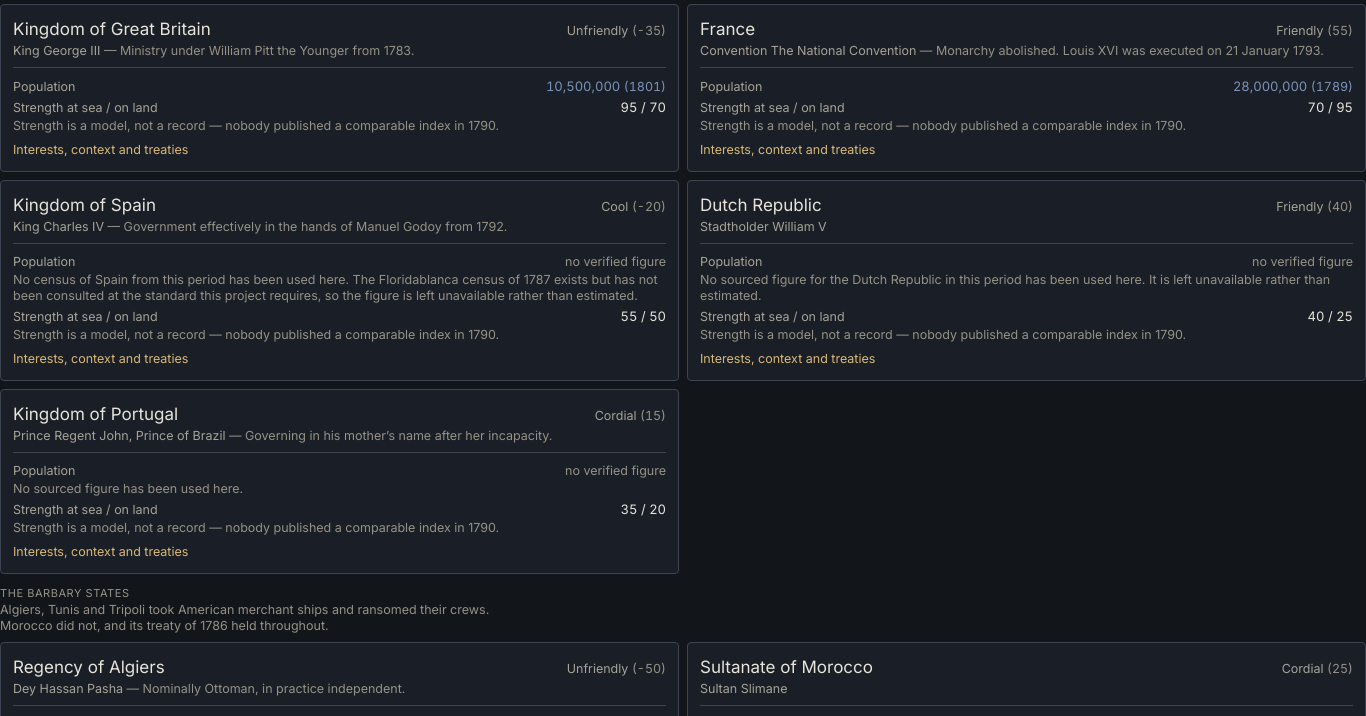
Test: treaties › says where each stands and why it cannot be signed
Click the button "Interests, context and treaties" below "George III" at (101, 150), box [13,142,188,158]
(page scrolled)
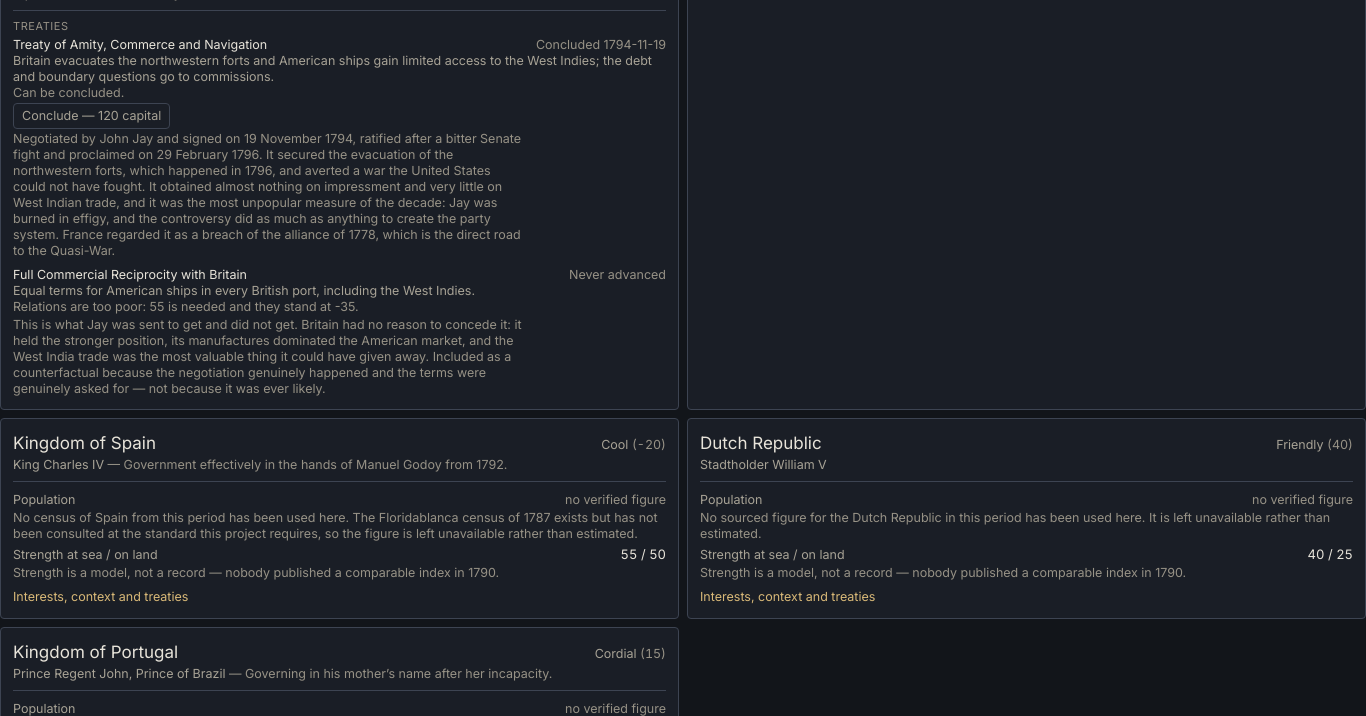
Expected: the list item that starts with "Full Commercial Reciprocity with Britain" shows "Relations are too poor", [13,299,359,314]
